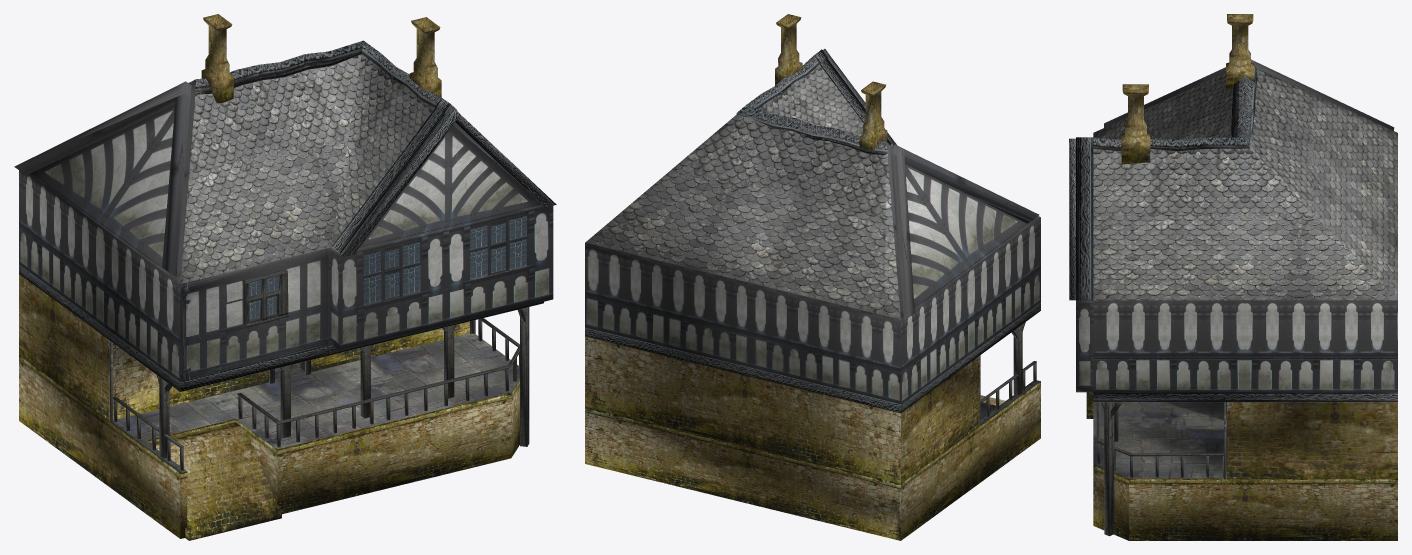
The model's file is medhouse14.fbx.
3 views of the same model, side by side, from view 1: azimuth 30°, elevation 25°; view 2: azimuth 150°, elevation 25°; view 3: azimuth 270°, elevation 25° (orthographic). The views are drawn at different scales.
Visible parts, largest first — view 1: medhouse14; view 2: medhouse14; view 3: medhouse14.
Boxes of the visible parts, <box> form: medhouse14: <box>14,14,556,540</box>; medhouse14: <box>585,14,1040,540</box>; medhouse14: <box>1069,14,1397,540</box>.
Bounding box in the file's own units: 1501 × 1673 × 1216.
